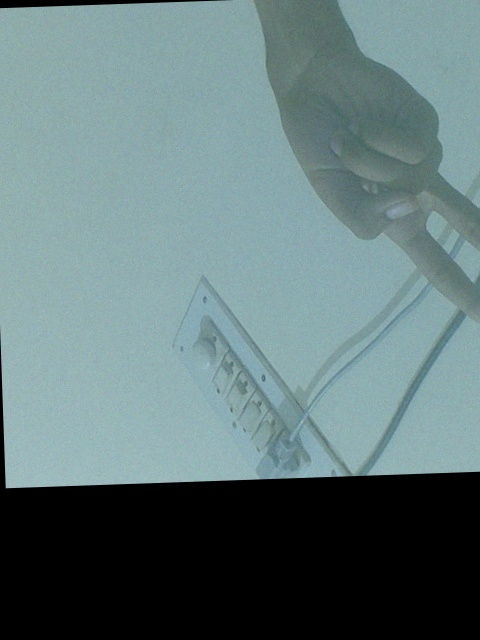hand: (261, 31, 480, 330)
